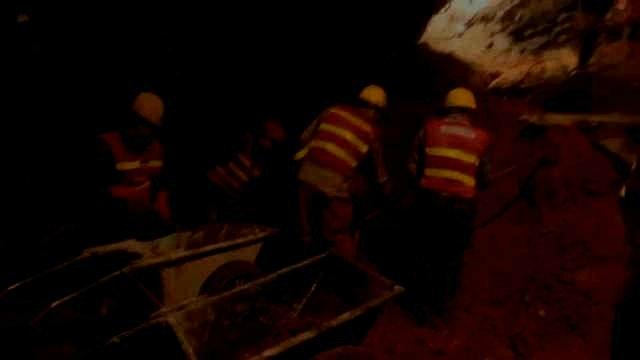helmet: (131, 91, 163, 131), (444, 87, 477, 120), (358, 83, 387, 116)
